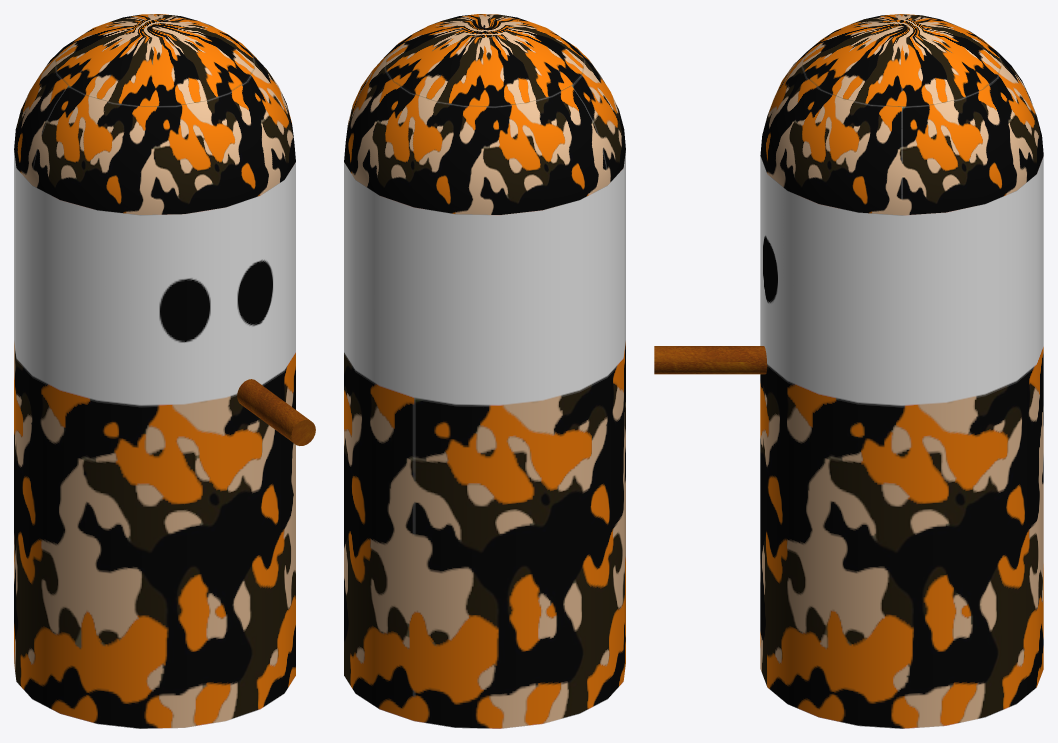
Rendered from orangesoldier.fbx.
The picture shows the model from 3 angles, left to right: view 1: azimuth 30°, elevation 25°; view 2: azimuth 150°, elevation 25°; view 3: azimuth 270°, elevation 25°; orthographic projection.
Parts seen in each view (by area): view 1: polySurface1, pCylinder2; view 2: polySurface1; view 3: polySurface1, pCylinder2.
Part boxes in pixels (x1=…): polySurface1: x1=14, y1=14, x2=295, y2=728; pCylinder2: x1=237, y1=379, x2=315, y2=445; polySurface1: x1=344, y1=14, x2=625, y2=728; polySurface1: x1=760, y1=14, x2=1043, y2=728; pCylinder2: x1=654, y1=346, x2=767, y2=374.
Size of the model in its own units: 2 by 5 by 2.75.
3 materials, 3 textured.
